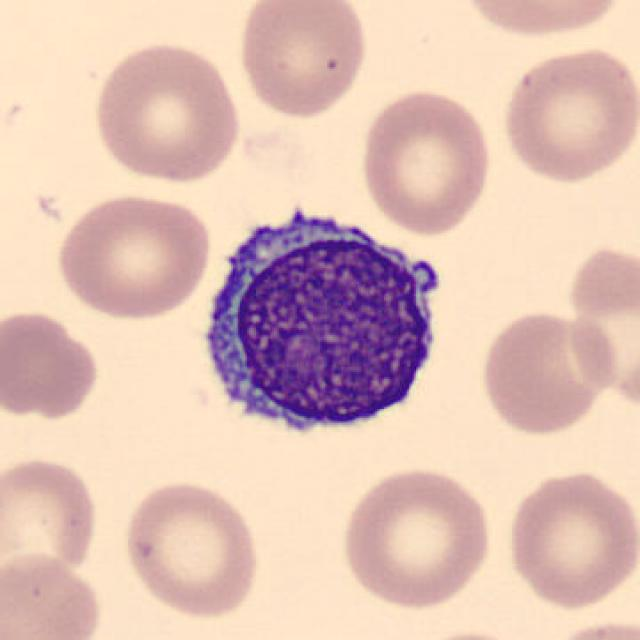Lymphocyte: (188, 194, 454, 453)
RBC: (336, 462, 496, 612), (87, 37, 245, 187), (52, 188, 215, 322), (117, 476, 265, 622), (356, 85, 496, 238), (498, 42, 638, 187), (502, 465, 638, 612), (476, 307, 618, 437), (233, 0, 371, 122), (560, 240, 640, 412), (0, 451, 101, 581), (0, 305, 103, 423), (0, 550, 105, 640), (457, 0, 627, 41), (544, 617, 638, 640), (406, 626, 542, 640)
